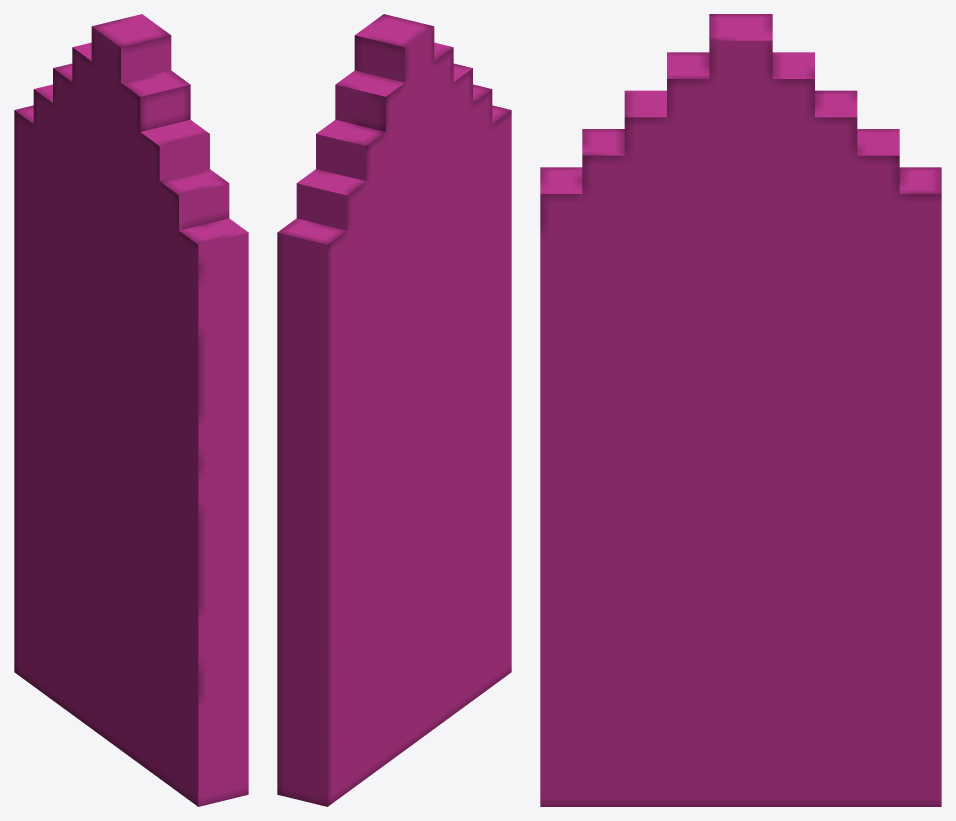
File: portal_pink.obj
3 renders of one model, left to right at view 1: azimuth 30°, elevation 25°; view 2: azimuth 150°, elevation 25°; view 3: azimuth 270°, elevation 25°, orthographic. The views are drawn at different scales.
Parts seen in each view (by area): view 1: portal_pink; view 2: portal_pink; view 3: portal_pink.
Part boxes in pixels (x1,y1,x2,y2): portal_pink: (14,14,248,806); portal_pink: (277,14,511,806); portal_pink: (540,14,941,806).
Size of the model in its own units: 0.3 by 4 by 1.9.
Materials: 1 (1 with a texture image).
